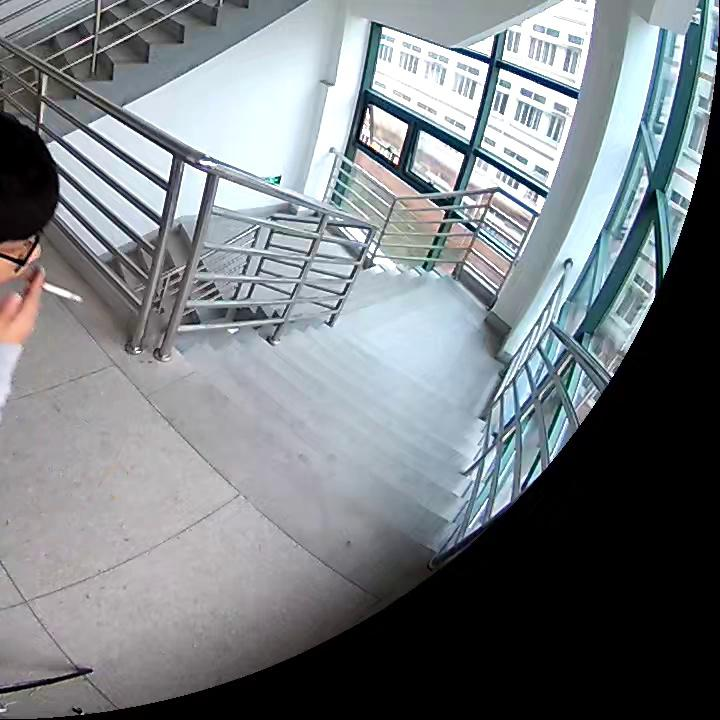handsmoke: (1, 264, 82, 344)
mouthwithoutsmoke: (1, 108, 57, 280)
